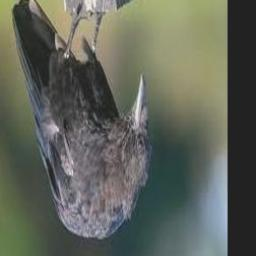Crow: (11, 0, 150, 240)
